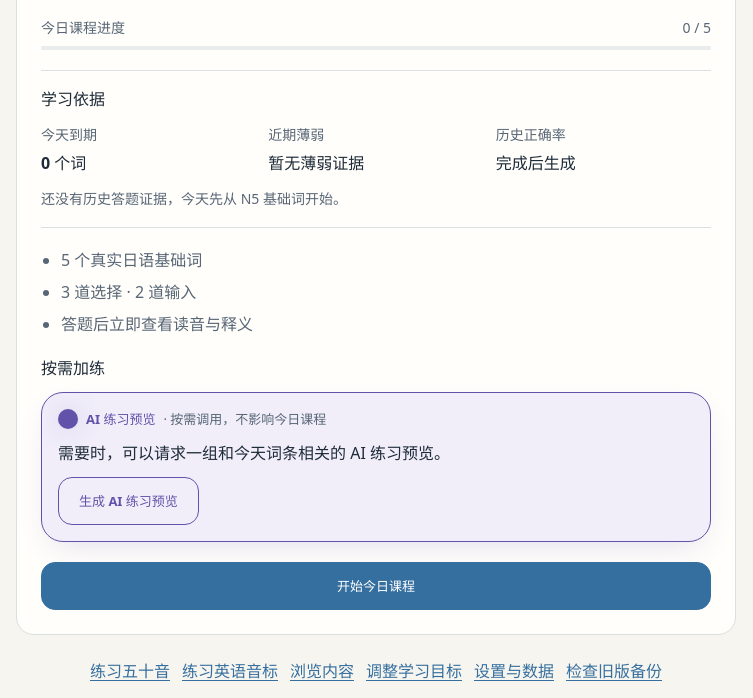
TodayCoursePage › shows the local fallback when the on-demand Gateway request fails
The width and height of the screenshot is (753, 698).
(page scrolled)
Click the button "生成 AI 练习预览": point(128, 501) x1=58 y1=477 x2=199 y2=525
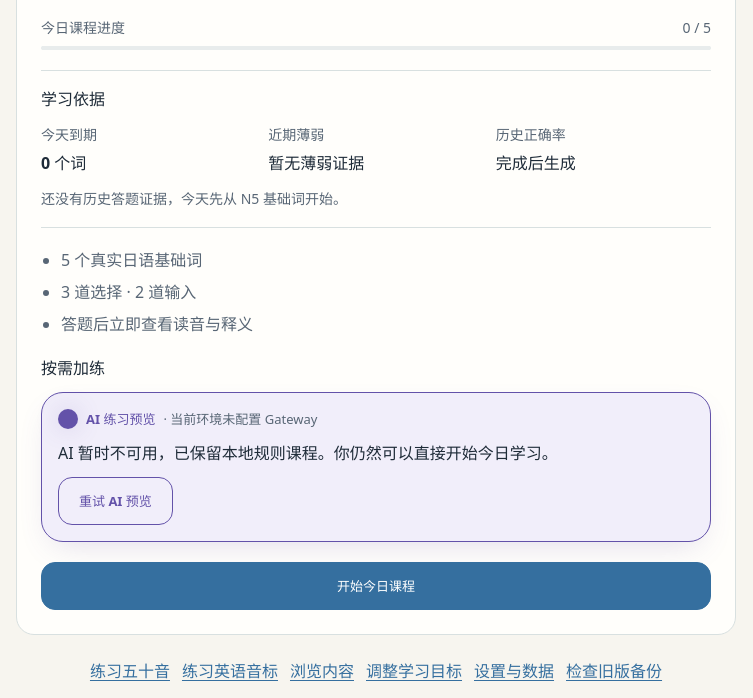
Expected: the button "开始今日课程" is shown, x1=41 y1=562 x2=711 y2=610
Expected: the text "AI 暂时不可用，已保留本地规则课程。你仍然可以直接开始今日学习。" is shown, x1=58 y1=442 x2=558 y2=464
Expected: the text "· 当前环境未配置 Gateway" is shown, x1=163 y1=410 x2=317 y2=428
